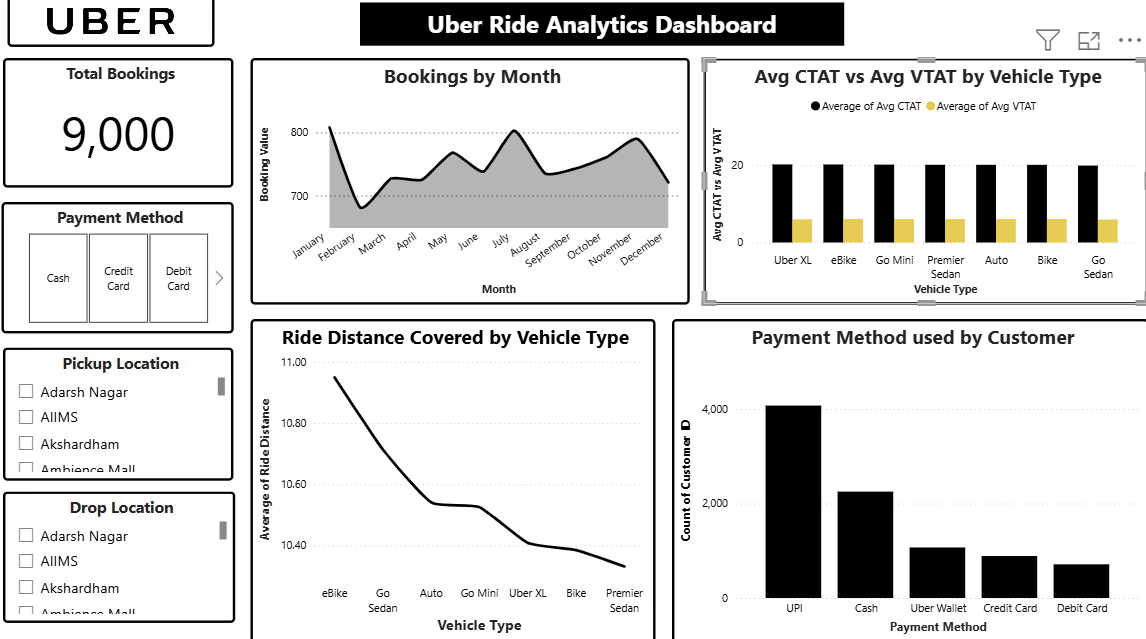

What the dashboard file says about the page in this screenshot:
{"tool":"powerbi","page":{"name":"Page 1","canvas":[1280,720],"ordinal":0},"visuals":[{"type":"areaChart","title":"Bookings by Month","fields":{"Category":["ncr_ride_bookings.Date.Variation.Date Hierarchy.Month"],"Y":["CountNonNull(ncr_ride_bookings.Booking Value)"]},"box":[278,70,488,274],"z":0},{"type":"lineChart","title":"Ride Distance Covered by Vehicle Type","fields":{"Category":["ncr_ride_bookings.Vehicle Type"],"Y":["Avg(ncr_ride_bookings.Ride Distance)"]},"box":[278,360,450,360],"z":1000},{"type":"clusteredColumnChart","title":"Avg CTAT vs Avg VTAT by Vehicle Type","fields":{"Category":["ncr_ride_bookings.Vehicle Type"],"Y":["Avg(ncr_ride_bookings.Avg CTAT)","Avg(ncr_ride_bookings.Avg VTAT)"]},"box":[782,70,494,274],"z":2000},{"type":"clusteredColumnChart","title":"Payment Method used by Customer","fields":{"Category":["ncr_ride_bookings.Payment Method"],"Y":["CountNonNull(ncr_ride_bookings.Customer ID)"]},"box":[746,360,530,360],"z":3000},{"type":"textbox","box":[400,8,538,48],"z":4000},{"type":"card","title":"Total Bookings","fields":{"Values":["CountNonNull(ncr_ride_bookings.Booking ID)"]},"box":[4,70,256,144],"z":5000},{"type":"slicer","title":"Payment Method","fields":{"Values":["ncr_ride_bookings.Payment Method"]},"box":[2,230,258,146],"z":6000},{"type":"slicer","title":"Drop Location","fields":{"Values":["ncr_ride_bookings.Drop Location"]},"box":[4,552,258,146],"z":7000},{"type":"slicer","title":"Pickup Location","fields":{"Values":["ncr_ride_bookings.Pickup Location"]},"box":[4,392,256,148],"z":8000},{"type":"image","box":[8,2,230,56],"z":9000}]}

Visuals, with their boxes in screenshot pixels (x1, y1, x2, y2), scaled from the page's 1280x720 canvas onto the 1146x639 screenshot:
"Bookings by Month" areaChart: (249, 62, 686, 305)
"Ride Distance Covered by Vehicle Type" lineChart: (249, 320, 652, 638)
"Avg CTAT vs Avg VTAT by Vehicle Type" clusteredColumnChart: (700, 62, 1142, 305)
"Payment Method used by Customer" clusteredColumnChart: (668, 320, 1142, 638)
textbox: (358, 7, 840, 50)
"Total Bookings" card: (4, 62, 233, 190)
"Payment Method" slicer: (2, 204, 233, 334)
"Drop Location" slicer: (4, 490, 235, 619)
"Pickup Location" slicer: (4, 348, 233, 479)
image: (7, 2, 213, 51)
